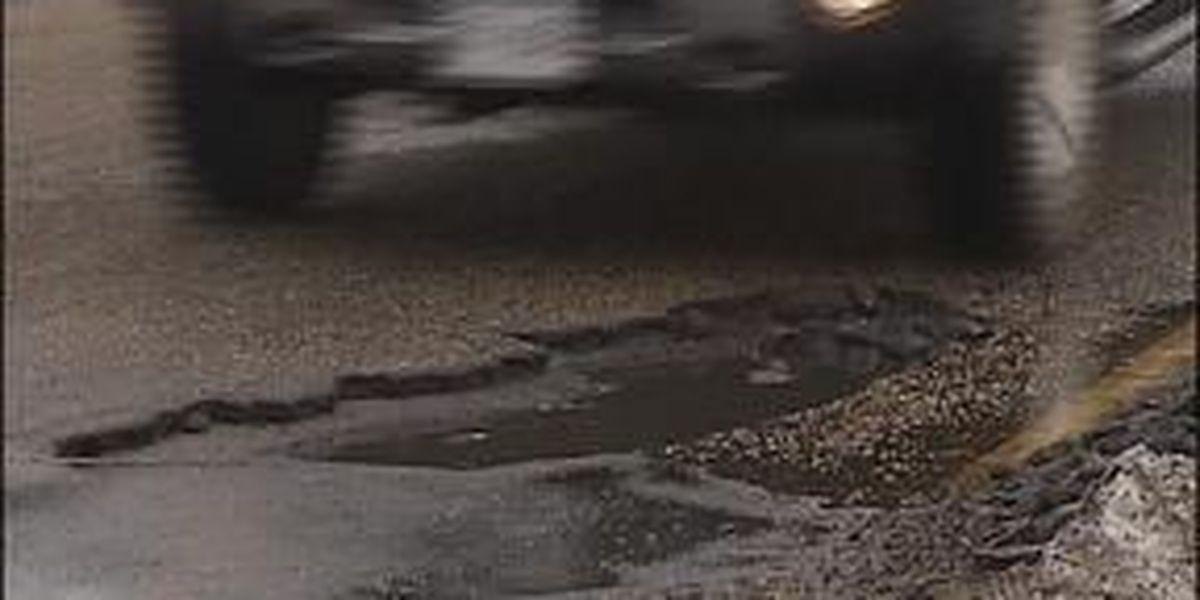pothole: (63, 267, 986, 470), (1055, 511, 1056, 513)
